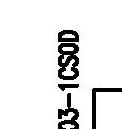verticaltext: (58, 30, 79, 128)
